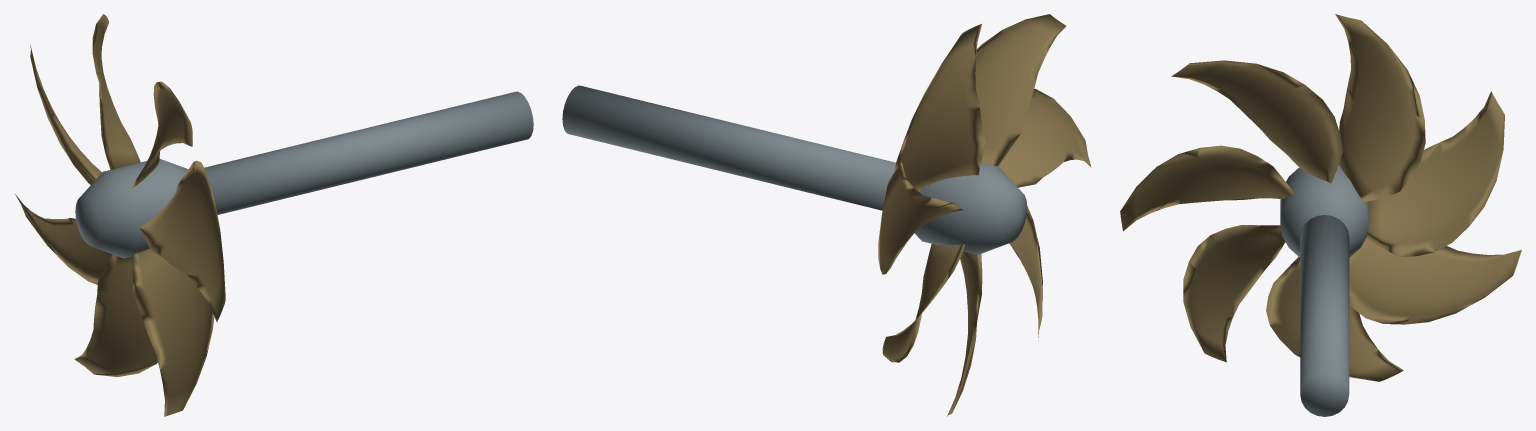
File: RU_PROP_Akula_LOD1.fbx
3 views of the same model, side by side, from view 1: azimuth 30°, elevation 25°; view 2: azimuth 150°, elevation 25°; view 3: azimuth 270°, elevation 25° (orthographic). The views are drawn at different scales.
Visible parts, largest first — view 1: RU_PROP_Akula_LOD1_Shaft.001, RU_PROP_Akula_LOD1_Blade_04.001, RU_PROP_Akula_LOD1_Blade_03.001, RU_PROP_Akula_LOD1_Hub.001, RU_PROP_Akula_LOD1_Blade_05.001, RU_PROP_Akula_LOD1_Blade_06.001, RU_PROP_Akula_LOD1_Blade_01.001, RU_PROP_Akula_LOD1_Blade_02.001, RU_PROP_Akula_LOD1_Blade_00.001; view 2: RU_PROP_Akula_LOD1_Shaft.001, RU_PROP_Akula_LOD1_Blade_01.001, RU_PROP_Akula_LOD1_Blade_02.001, RU_PROP_Akula_LOD1_Hub.001, RU_PROP_Akula_LOD1_Blade_03.001, RU_PROP_Akula_LOD1_Blade_00.001, RU_PROP_Akula_LOD1_Blade_06.001, RU_PROP_Akula_LOD1_Blade_05.001, RU_PROP_Akula_LOD1_Blade_04.001; view 3: RU_PROP_Akula_LOD1_Blade_00.001, RU_PROP_Akula_LOD1_Blade_01.001, RU_PROP_Akula_LOD1_Blade_06.001, RU_PROP_Akula_LOD1_Shaft.001, RU_PROP_Akula_LOD1_Blade_02.001, RU_PROP_Akula_LOD1_Blade_04.001, RU_PROP_Akula_LOD1_Blade_03.001, RU_PROP_Akula_LOD1_Hub.001, RU_PROP_Akula_LOD1_Blade_05.001.
Part boxes in pixels (x1,y1,x2,y2): RU_PROP_Akula_LOD1_Shaft.001: (204,91,533,214); RU_PROP_Akula_LOD1_Blade_04.001: (132,249,214,416); RU_PROP_Akula_LOD1_Blade_03.001: (139,160,225,321); RU_PROP_Akula_LOD1_Hub.001: (75,159,188,258); RU_PROP_Akula_LOD1_Blade_05.001: (74,254,157,376); RU_PROP_Akula_LOD1_Blade_06.001: (15,194,111,284); RU_PROP_Akula_LOD1_Blade_01.001: (92,14,140,170); RU_PROP_Akula_LOD1_Blade_02.001: (130,81,192,189); RU_PROP_Akula_LOD1_Blade_00.001: (30,44,102,184); RU_PROP_Akula_LOD1_Shaft.001: (562,85,895,210); RU_PROP_Akula_LOD1_Blade_01.001: (894,24,985,191); RU_PROP_Akula_LOD1_Blade_02.001: (975,14,1066,166); RU_PROP_Akula_LOD1_Hub.001: (914,162,1027,254); RU_PROP_Akula_LOD1_Blade_03.001: (998,89,1091,187); RU_PROP_Akula_LOD1_Blade_00.001: (878,162,963,274); RU_PROP_Akula_LOD1_Blade_06.001: (882,244,964,362); RU_PROP_Akula_LOD1_Blade_05.001: (947,251,982,416); RU_PROP_Akula_LOD1_Blade_04.001: (1009,206,1042,341); RU_PROP_Akula_LOD1_Blade_00.001: (1366,91,1504,256); RU_PROP_Akula_LOD1_Blade_01.001: (1335,14,1425,202); RU_PROP_Akula_LOD1_Blade_06.001: (1349,238,1521,324); RU_PROP_Akula_LOD1_Shaft.001: (1300,215,1349,416); RU_PROP_Akula_LOD1_Blade_02.001: (1171,60,1342,183); RU_PROP_Akula_LOD1_Blade_04.001: (1183,225,1285,362); RU_PROP_Akula_LOD1_Blade_03.001: (1120,145,1294,230); RU_PROP_Akula_LOD1_Hub.001: (1280,165,1369,257); RU_PROP_Akula_LOD1_Blade_05.001: (1266,256,1403,381).
Size of the model in its own units: 563 by 452 by 452.
